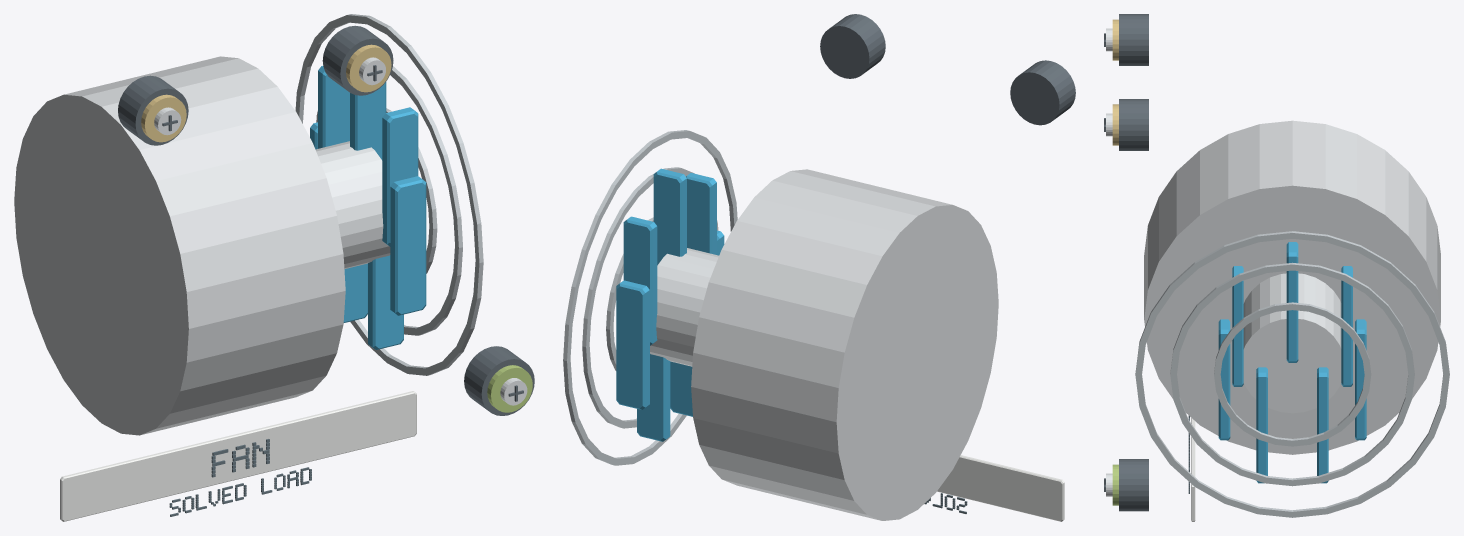
Rendered from fan.glb.
3 renders of one model, left to right at view 1: azimuth 30°, elevation 25°; view 2: azimuth 150°, elevation 25°; view 3: azimuth 270°, elevation 25°, orthographic. The views are drawn at different scales.
Parts seen in each view (by area): view 1: fan-detailed; view 2: fan-detailed; view 3: fan-detailed.
Part boxes in pixels (x1=…): fan-detailed: x1=14, y1=14, x2=534, y2=521; fan-detailed: x1=563, y1=14, x2=1075, y2=521; fan-detailed: x1=1104, y1=14, x2=1449, y2=521.
Size of the model in its own units: 2.54 by 2.65 by 2.08.
